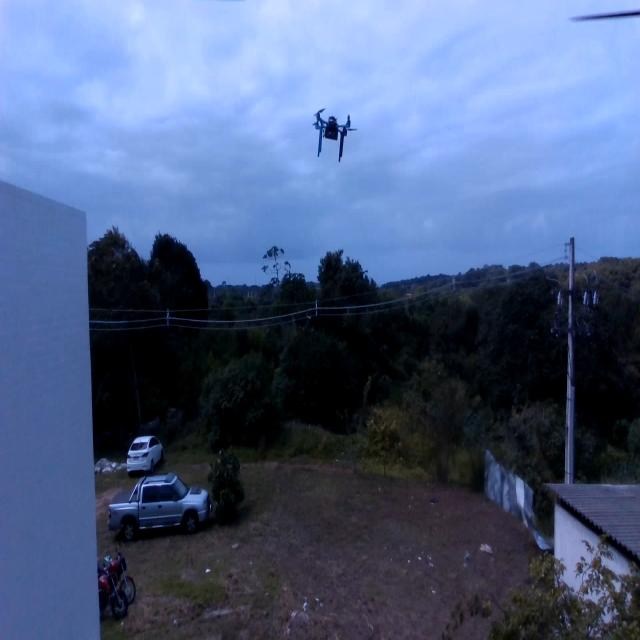-uav-: (301, 93, 365, 170)
